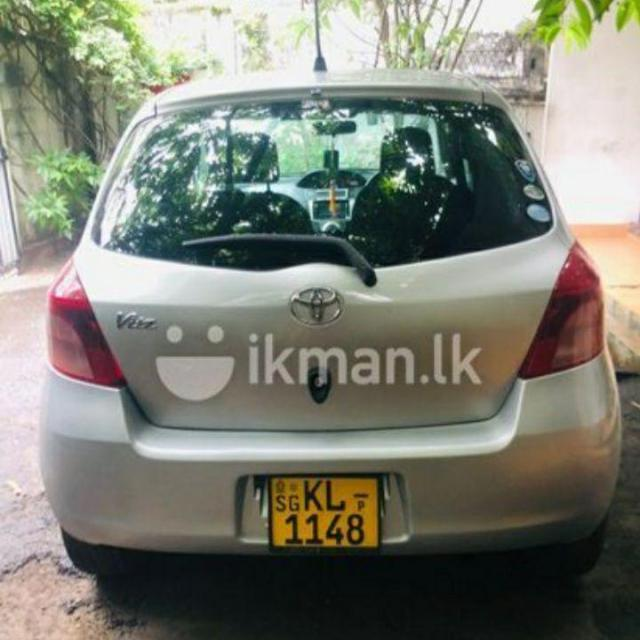license-plate: (269, 474, 377, 544)
